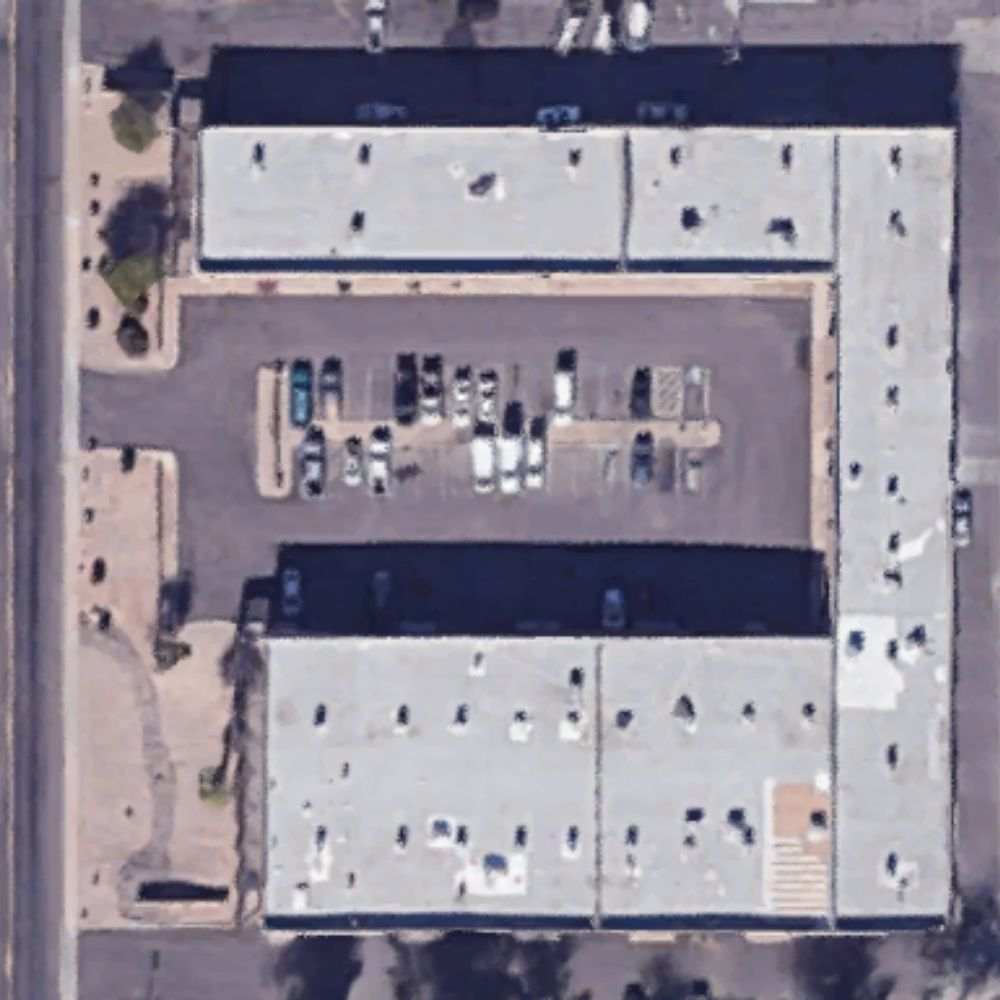parking: (180, 295, 820, 635)
